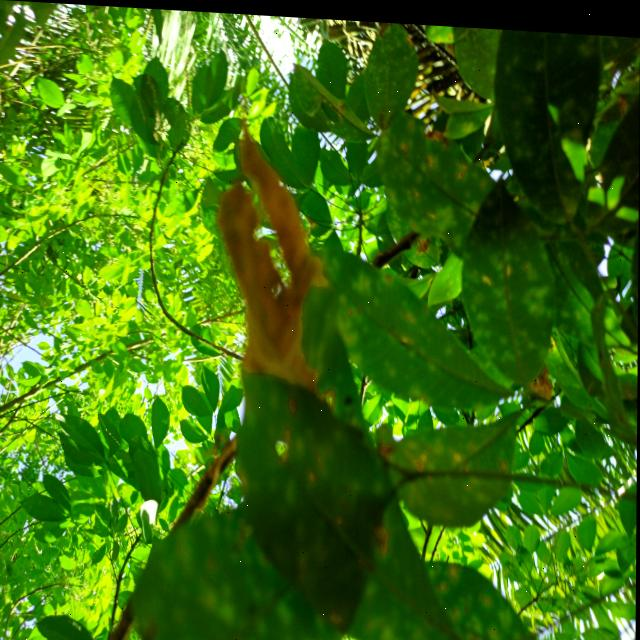Leaf-Blight: (215, 117, 323, 387)
